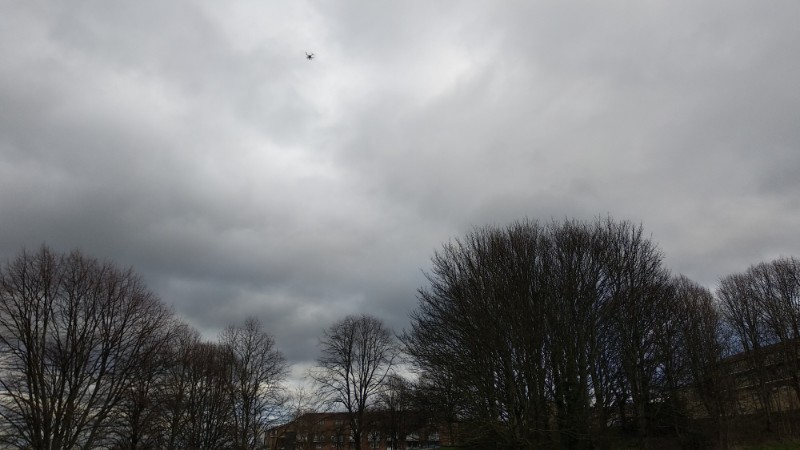drone: (305, 51, 317, 60)
